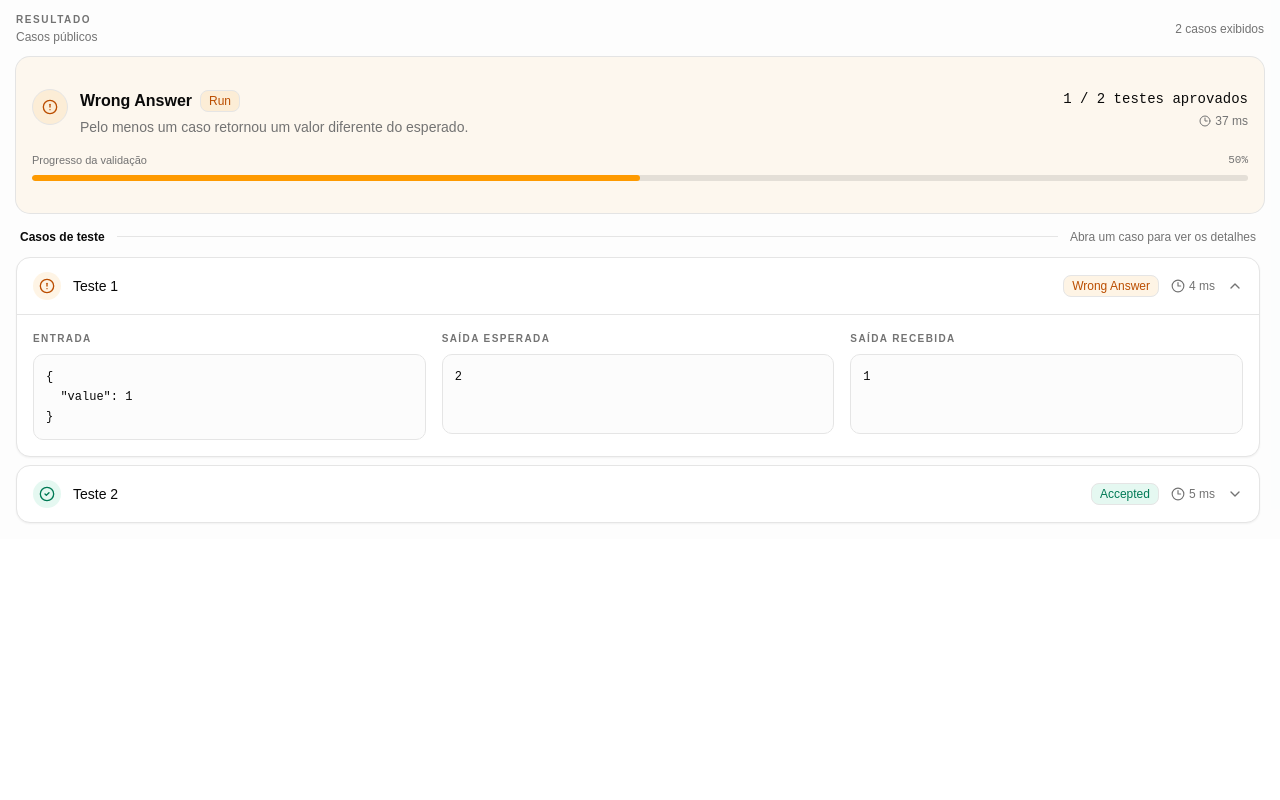
Test: ExecutionResultPanel › opens failed public tests and keeps passing tests compact
Expected: the element with test id "test-result-0" shows "\"value\": 1", [46,370,132,424]
Click the button with aria-label "Alternar detalhes de Teste 2" at (96, 494), box [17,466,1259,522]
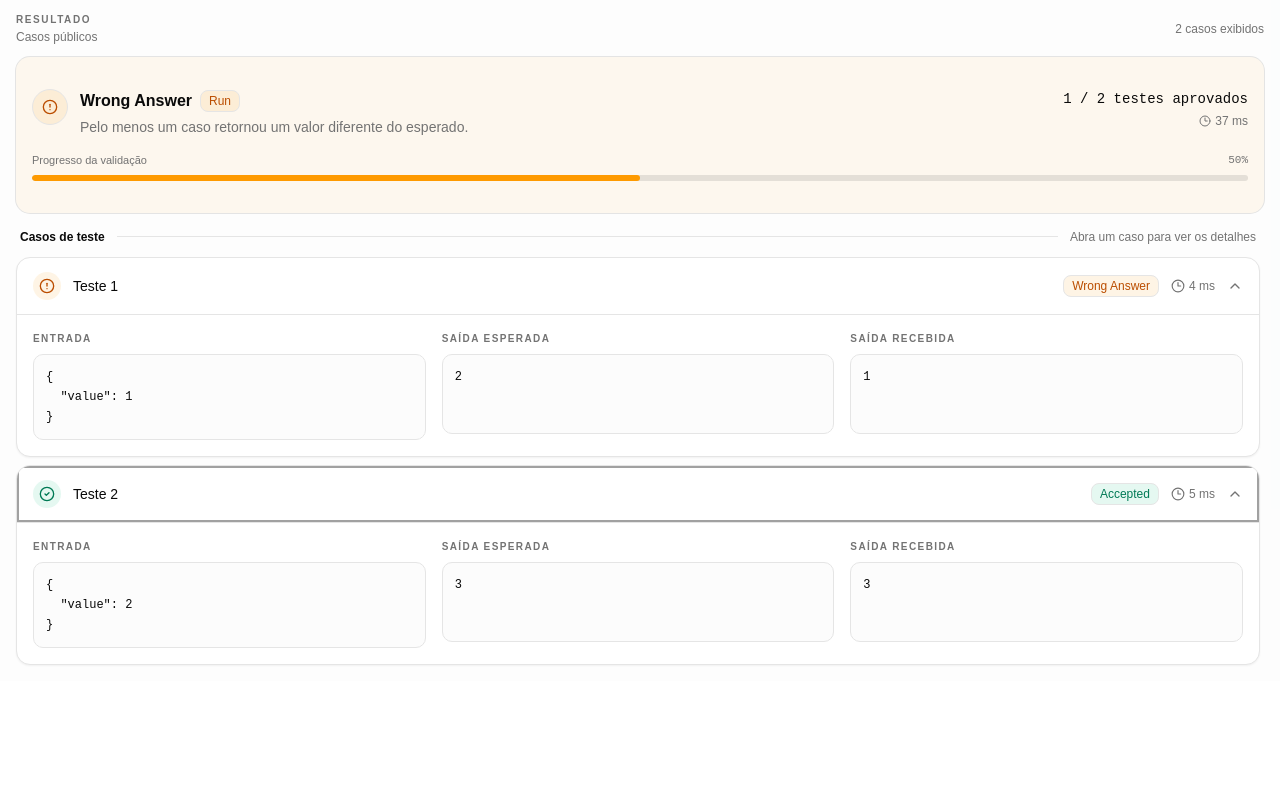
Expected: the element with test id "test-result-1" shows "\"value\": 2", [46,578,132,632]
Expected: the button with aria-label "Alternar detalhes de Teste 2" is expanded, [17,466,1259,522]
